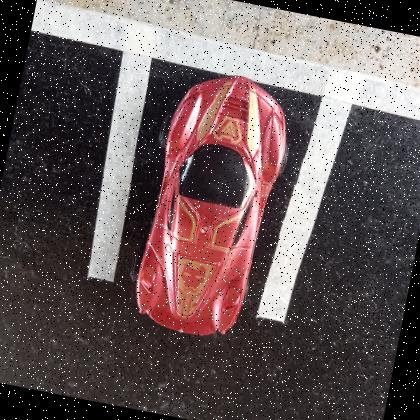Car: (135, 74, 287, 335)
